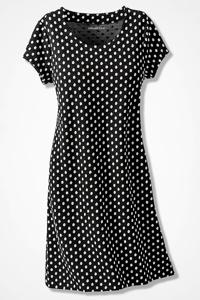C_dress: (22, 1, 184, 295)
C_skirt: (38, 117, 177, 293)
